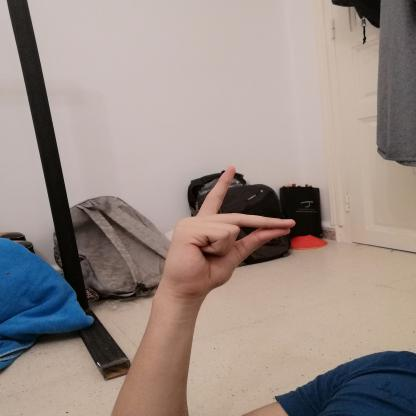TAA: (145, 160, 306, 302)
